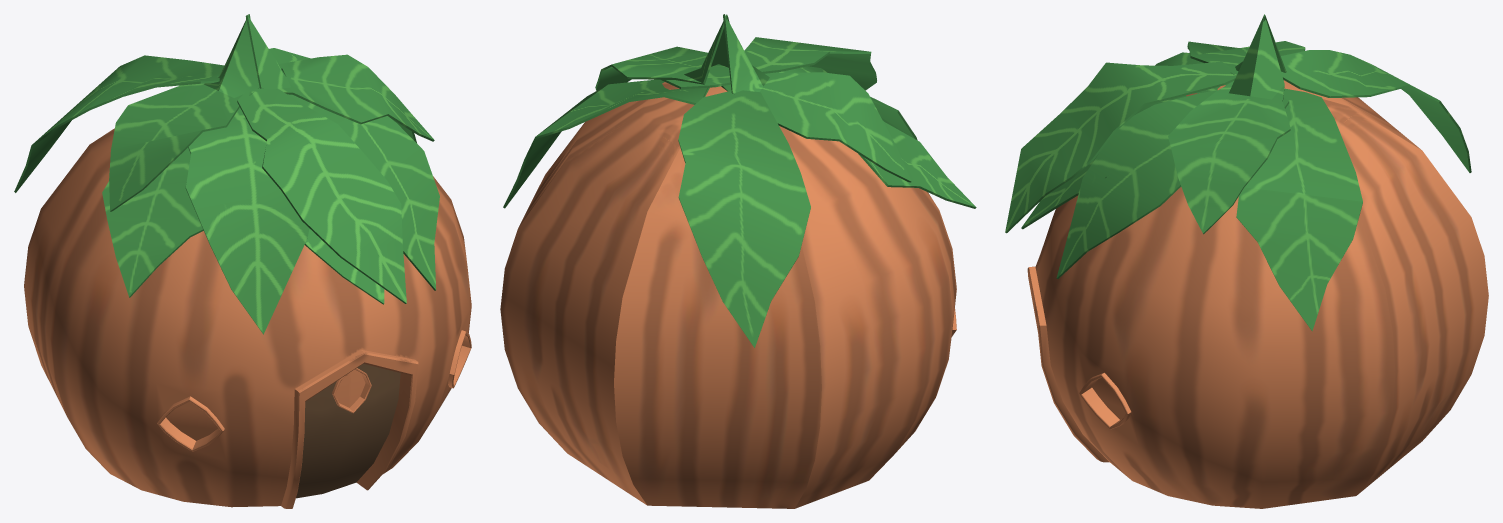
File: casa1.fbx
3 views of the same model, side by side, from view 1: azimuth 30°, elevation 25°; view 2: azimuth 150°, elevation 25°; view 3: azimuth 270°, elevation 25° (orthographic).
Visible parts, largest first — view 1: casa1; view 2: casa1; view 3: casa1.
Boxes of the visible parts, x1=… form: casa1: x1=14, y1=14, x2=471, y2=508; casa1: x1=500, y1=14, x2=976, y2=508; casa1: x1=1005, y1=14, x2=1488, y2=508.
Size of the model in its own units: 201 by 208 by 213.
4 materials, 3 textured.
